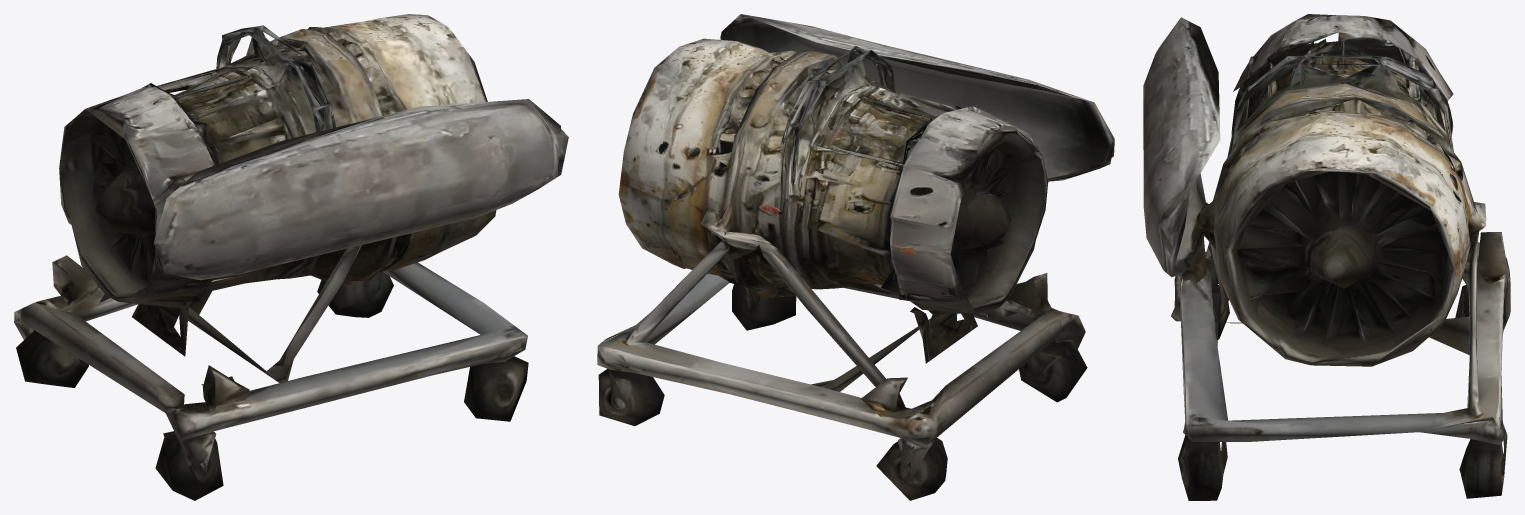
The model's file is ap_engine.glb.
3 views of the same model, side by side, from view 1: azimuth 30°, elevation 25°; view 2: azimuth 150°, elevation 25°; view 3: azimuth 270°, elevation 25° (orthographic). The views are drawn at different scales.
Parts seen in each view (by area): view 1: tripo_node_ae6e04a2-4566-46af-8f4a-c747b087ed0b; view 2: tripo_node_ae6e04a2-4566-46af-8f4a-c747b087ed0b; view 3: tripo_node_ae6e04a2-4566-46af-8f4a-c747b087ed0b.
Part boxes in pixels (x1,y1,x2,y2): tripo_node_ae6e04a2-4566-46af-8f4a-c747b087ed0b: (14,14,568,500); tripo_node_ae6e04a2-4566-46af-8f4a-c747b087ed0b: (597,14,1114,500); tripo_node_ae6e04a2-4566-46af-8f4a-c747b087ed0b: (1143,14,1510,500).
Bounding box in the file's own units: 1 × 0.8364 × 0.7631.
1 material, 1 textured.
